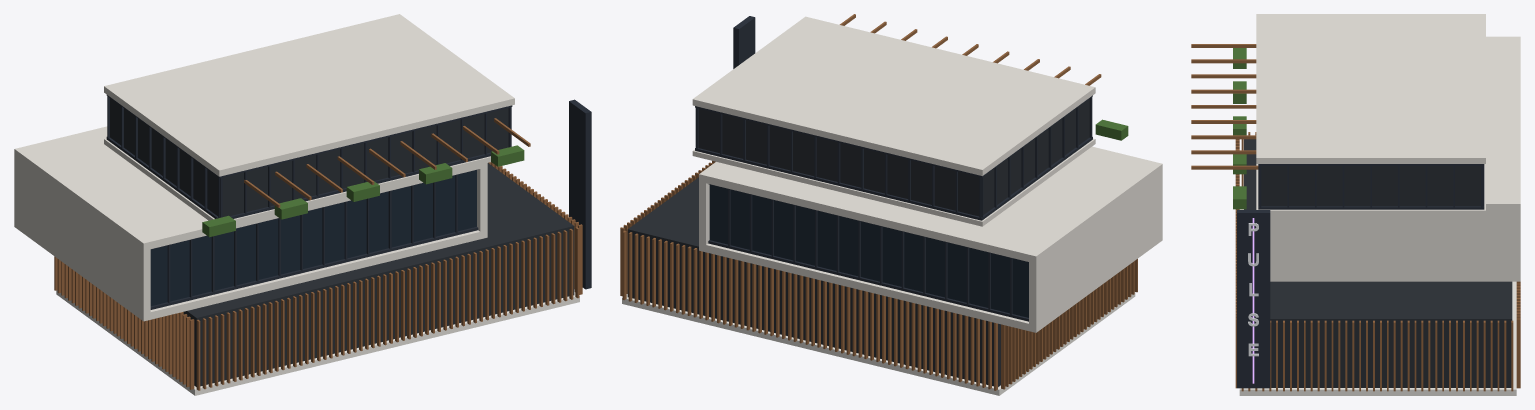
Rendered from agency_upper.glb.
3 views of the same model, side by side, from view 1: azimuth 30°, elevation 25°; view 2: azimuth 150°, elevation 25°; view 3: azimuth 270°, elevation 25° (orthographic). The views are drawn at different scales.
Parts seen in each view (by area): view 1: PulseAgencyUpper; view 2: PulseAgencyUpper; view 3: PulseAgencyUpper.
Boxes of the visible parts, x1,y1,x2,y2 form: PulseAgencyUpper: (14, 14, 591, 395); PulseAgencyUpper: (620, 14, 1162, 395); PulseAgencyUpper: (1191, 14, 1520, 395).
Bounding box in the file's own units: 36.25 × 16.8 × 23.8.
